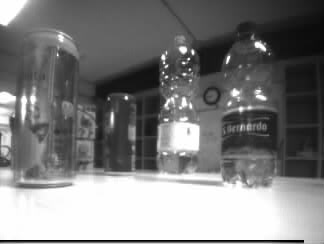Bottle: (218, 21, 278, 190), (157, 35, 202, 175)
Tin can: (10, 28, 79, 188), (103, 92, 137, 175)
